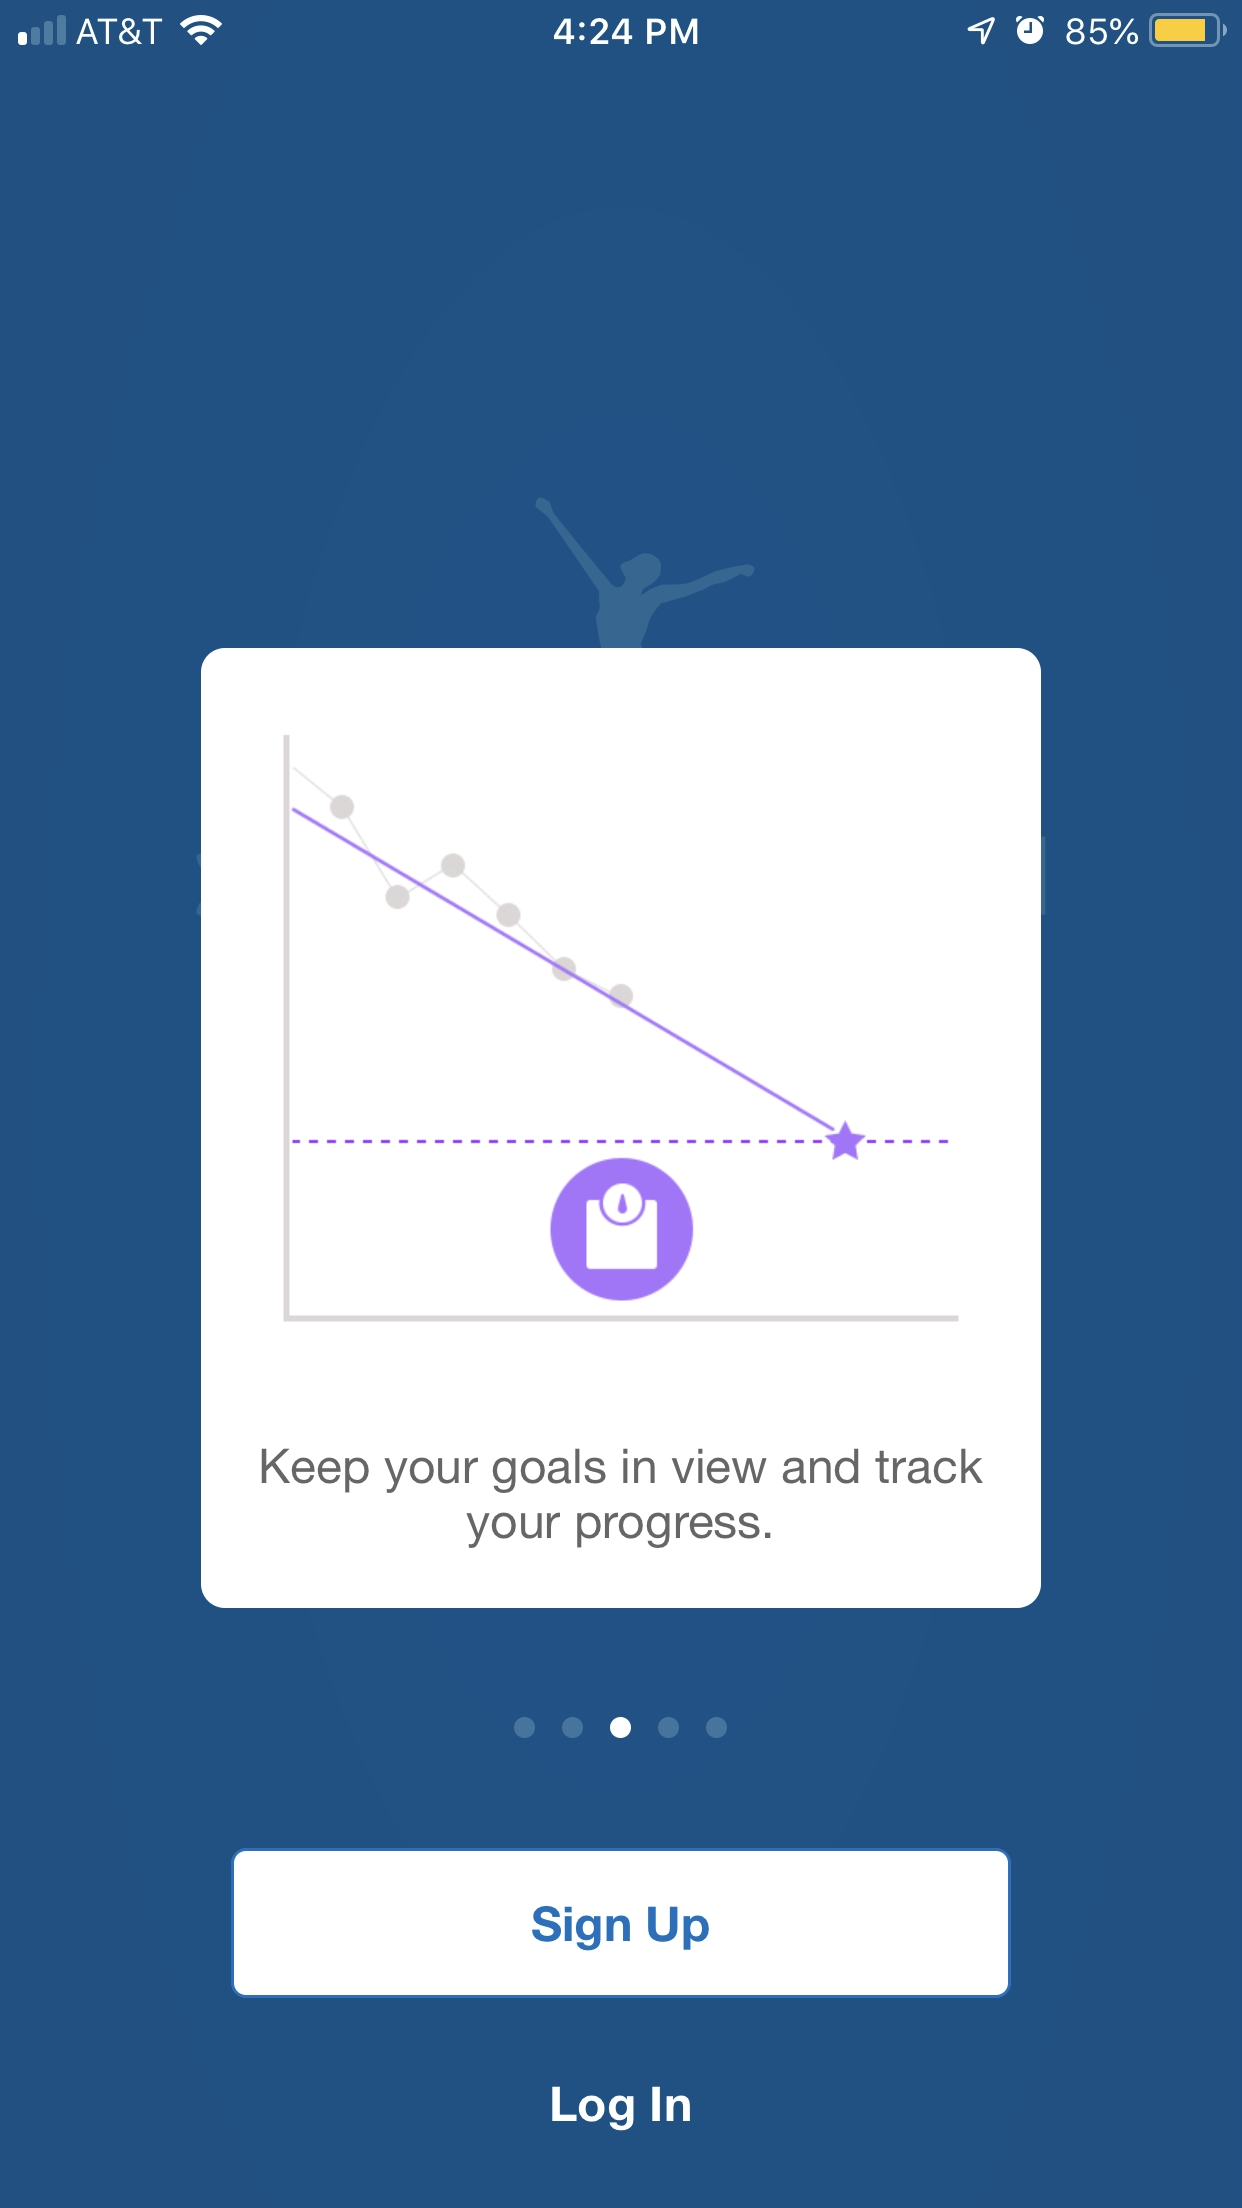Image: (284, 735, 960, 1324), (535, 497, 754, 648)
PageIndicator: (513, 1717, 728, 1739)
Text: (261, 1448, 984, 1550), (550, 2085, 692, 2131)
TextButton: (231, 1847, 1011, 1999)
UpperTaskBar: (2, 2, 1242, 49)
